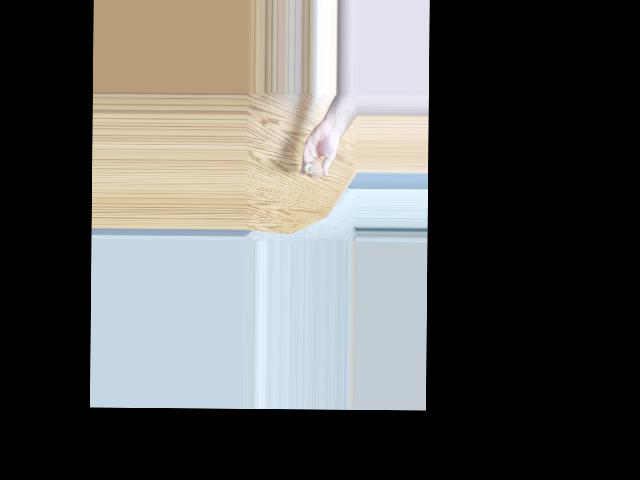sweet_potato: (305, 161, 323, 180)
